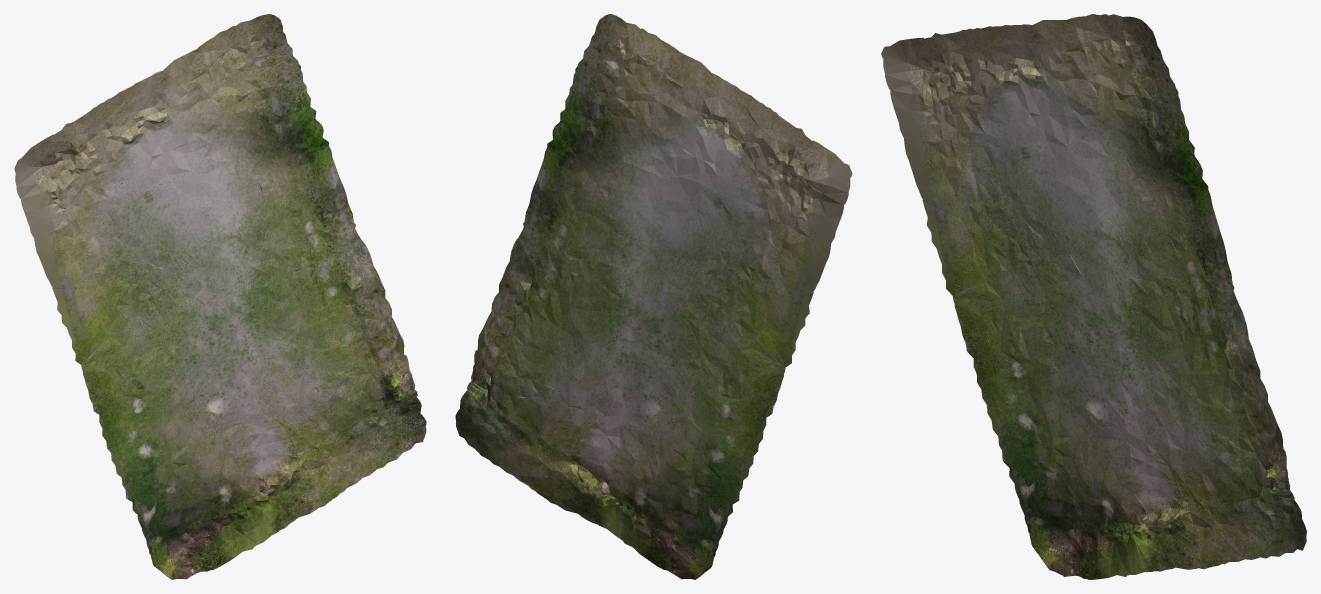
Rendered from field.glb.
3 views of the same model, side by side, from view 1: azimuth 30°, elevation 25°; view 2: azimuth 150°, elevation 25°; view 3: azimuth 330°, elevation 25° (orthographic). The views are drawn at different scales.
Visible parts, largest first — view 1: field; view 2: field; view 3: field.
Boxes of the visible parts, <box> form: field: <box>14,14,426,579</box>; field: <box>455,14,852,579</box>; field: <box>881,14,1306,579</box>.
Size of the model in its own units: 26.48 by 34.2 by 1.75.
1 material, 1 textured.
